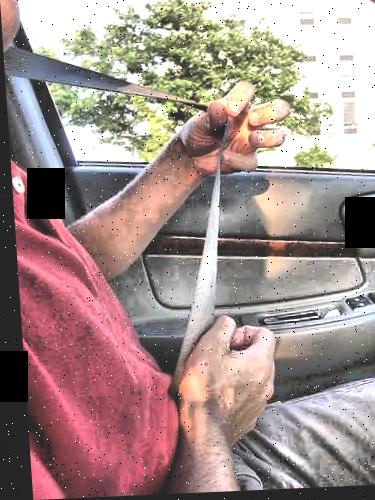seatbelt: (39, 39, 256, 381)
